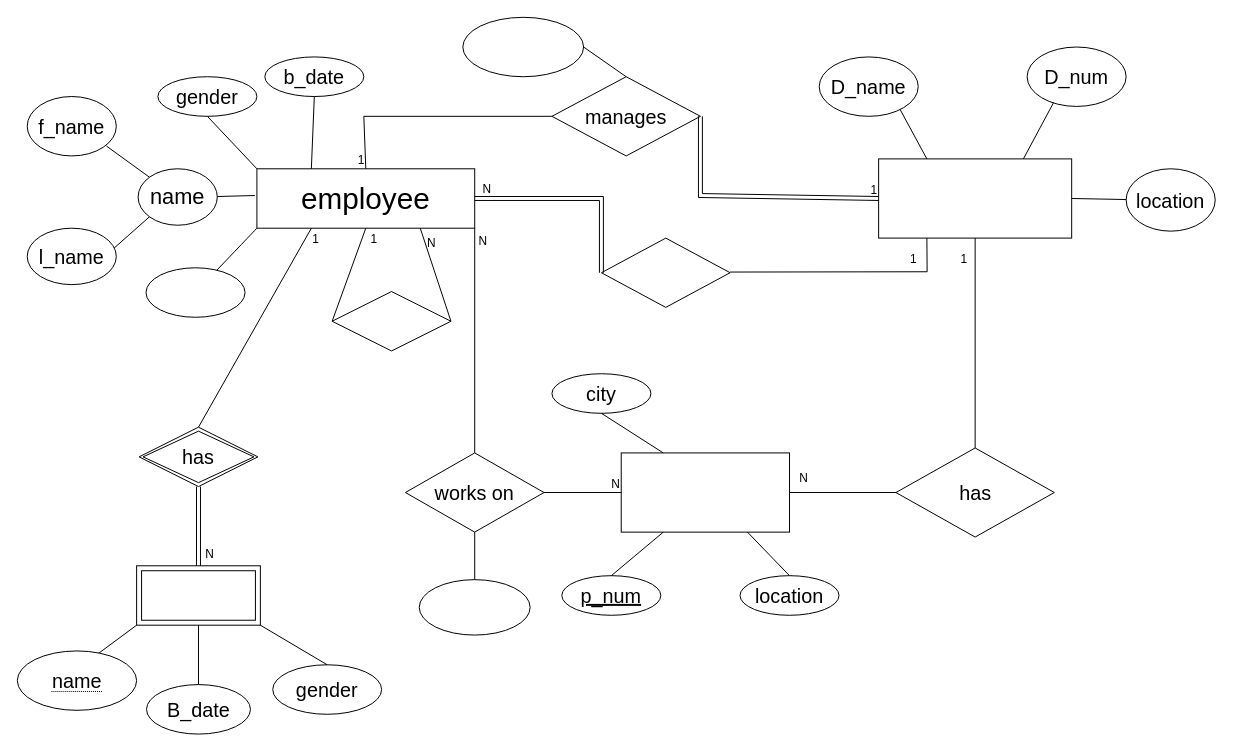
Some shapes in this 1233 by 751 pixel diagram are drawn without their labels. Each missing label, with the centre of its shape:
"department" belongs at (x=975, y=198).
"dependant" belongs at (x=198, y=595).
"hiring_date" belongs at (x=523, y=46).
"project" belongs at (x=705, y=492).
"ssn" belongs at (x=195, y=292).
"supervision" belongs at (x=391, y=321).
"working_hours" belongs at (x=474, y=607).
"works for" belongs at (x=665, y=272).
